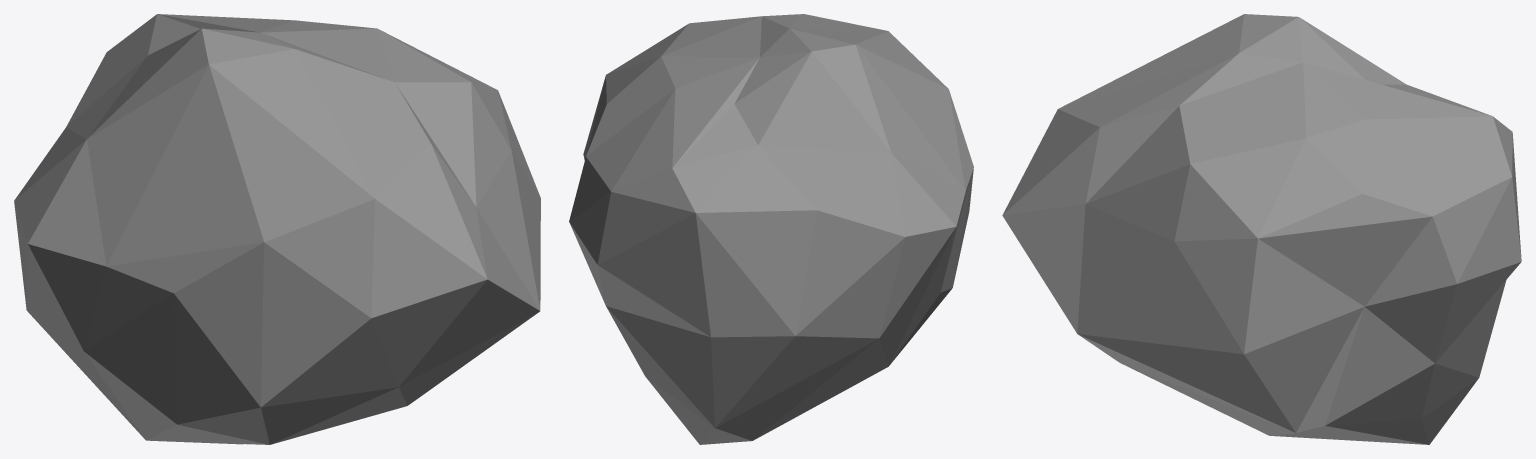
Rendered from Rock_4.fbx.
The picture shows the model from 3 angles, left to right: view 1: azimuth 30°, elevation 25°; view 2: azimuth 150°, elevation 25°; view 3: azimuth 270°, elevation 25°; orthographic projection. The views are drawn at different scales.
Visible parts, largest first — view 1: Rock_4; view 2: Rock_4; view 3: Rock_4.
Boxes of the visible parts, x1,y1,x2,y2 form: Rock_4: (14,14,540,444); Rock_4: (569,14,973,444); Rock_4: (1002,14,1521,444).
Size of the model in its own units: 82.27 by 71.88 by 84.64.
